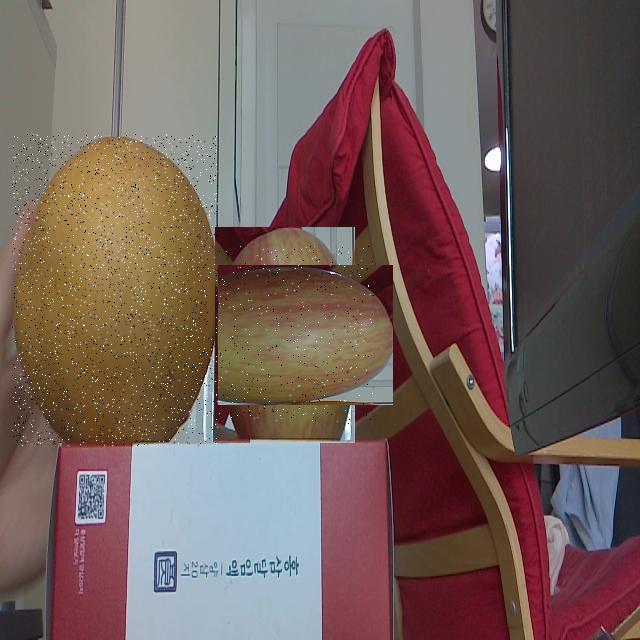apple: (196, 246, 374, 424)
pear: (12, 134, 218, 446)
